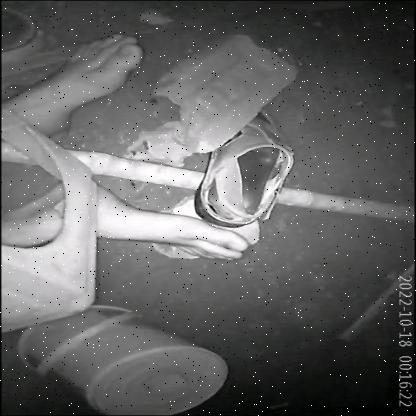leg: (13, 167, 251, 271), (5, 21, 150, 154)
